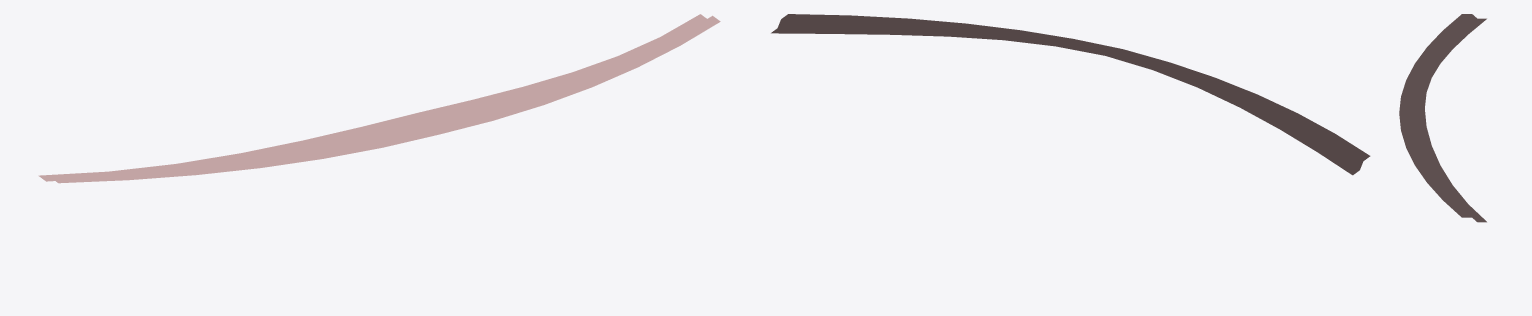
Rendered from serious.glb.
3 renders of one model, left to right at view 1: azimuth 30°, elevation 25°; view 2: azimuth 150°, elevation 25°; view 3: azimuth 270°, elevation 25°, orthographic. The views are drawn at different scales.
Parts seen in each view (by area): view 1: mouths_serious; view 2: mouths_serious; view 3: mouths_serious.
Part boxes in pixels (x1=…): mouths_serious: x1=38, y1=14, x2=720, y2=183; mouths_serious: x1=771, y1=14, x2=1370, y2=175; mouths_serious: x1=1399, y1=14, x2=1486, y2=222.
Size of the model in its own units: 0.48 by 0.1005 by 0.118.
